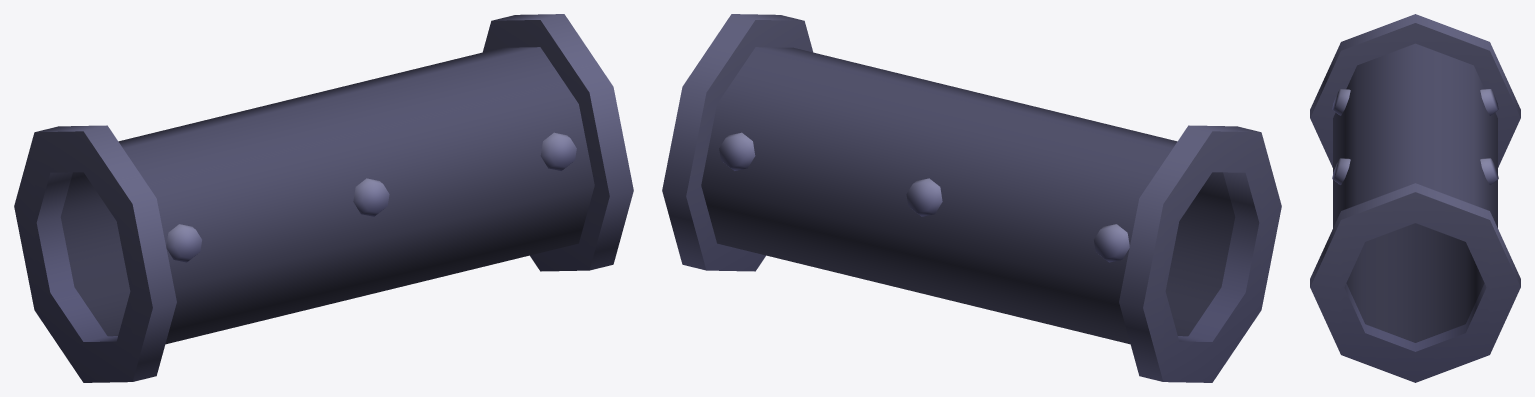
Rendered from pipe-large-long.glb.
3 views of the same model, side by side, from view 1: azimuth 30°, elevation 25°; view 2: azimuth 150°, elevation 25°; view 3: azimuth 270°, elevation 25° (orthographic). The views are drawn at different scales.
Parts seen in each view (by area): view 1: pipe-large-long; view 2: pipe-large-long; view 3: pipe-large-long.
Part boxes in pixels (box(x1,y1,x2,y2)): pipe-large-long: box(14, 14, 633, 382); pipe-large-long: box(662, 14, 1281, 382); pipe-large-long: box(1310, 14, 1520, 382).
Bounding box in the file's own units: 2 × 1 × 1.
